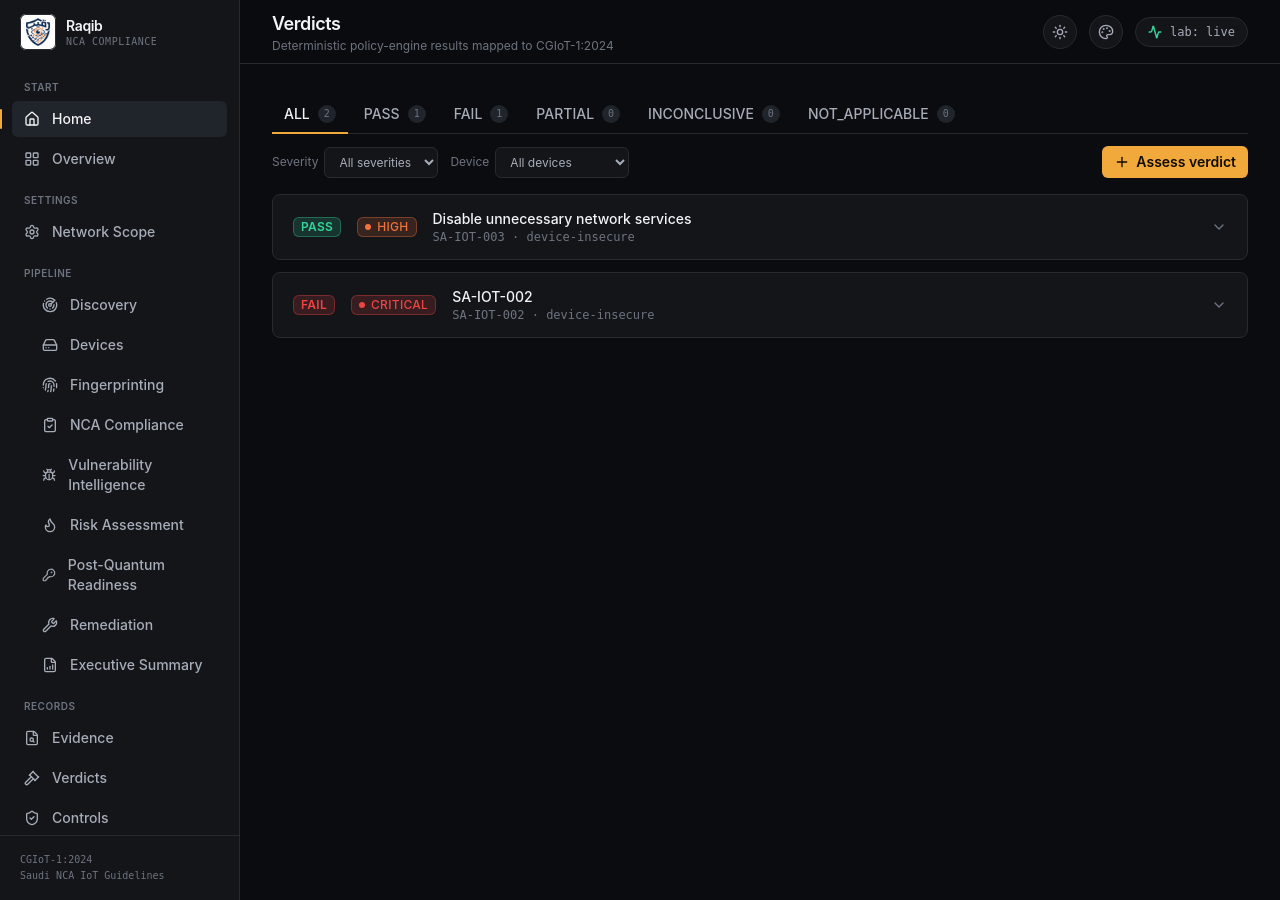
Test: VerdictsPage › filters verdicts by severity
Expected: the text "Disable unnecessary network services" is shown, [432,210,692,227]
Step 1. Select "critical" in the dropdown named "Filter by severity" → (381, 162), box [324,146,438,178]
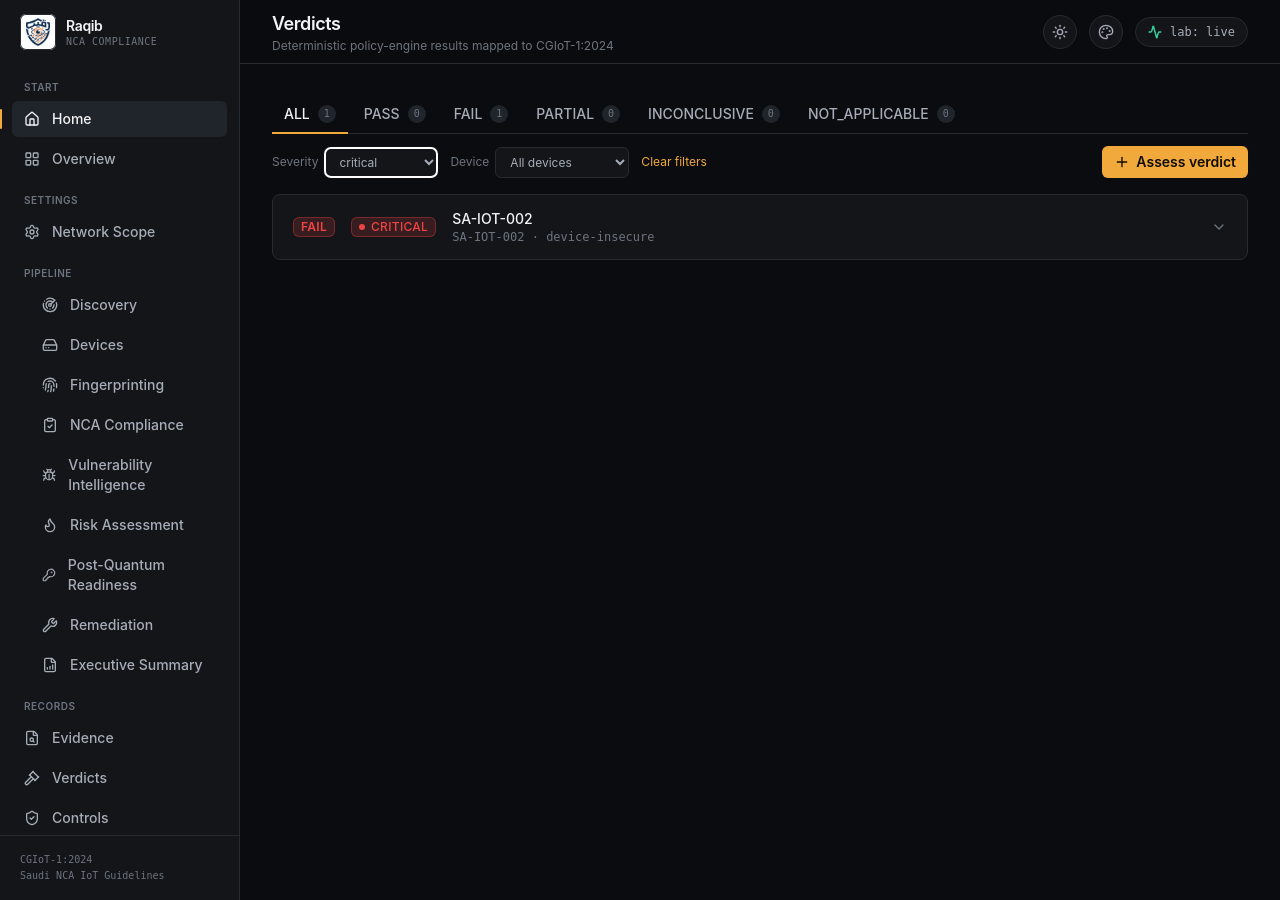
Expected: the text "SA-IOT-002" is shown, [452,210,533,227]
Now the button "SA-IOT-003" is gone
